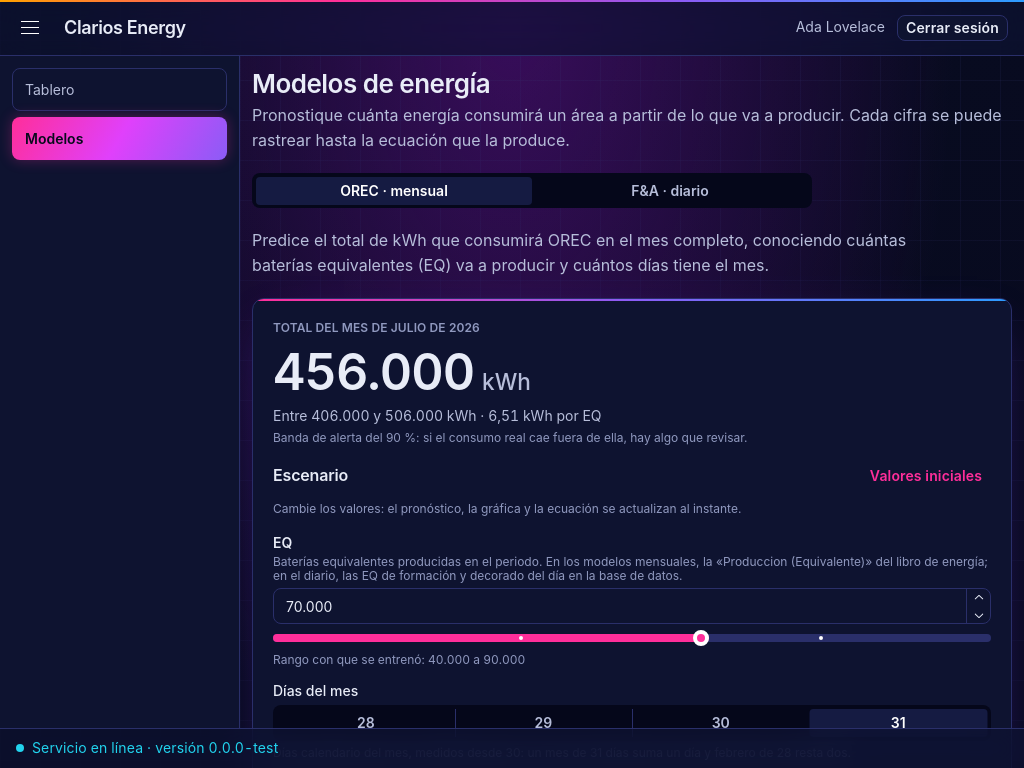
a monthly model › sends the new value when the person changes the EQ, and warns of an extrapolation
This screenshot has width=1024, height=768.
Replace the text in the field labelled "EQ" with "95000" at (632, 606), box [273,588,991,624]
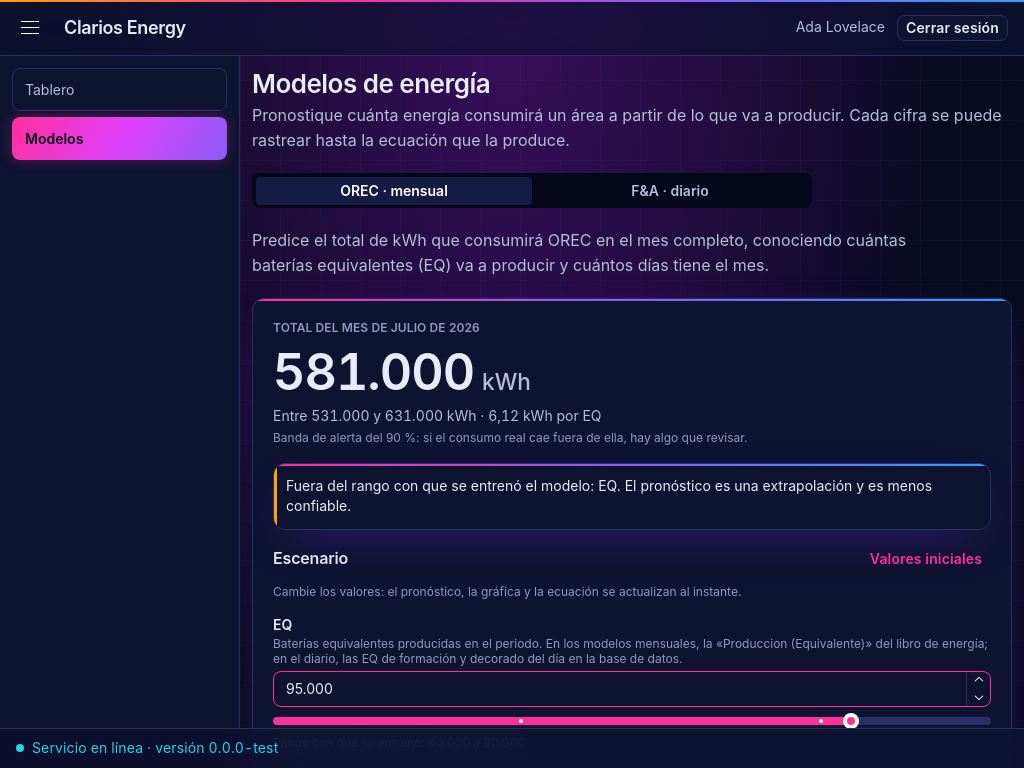
Check: the text "Fuera del rango con que se entrenó" is shown, box [286,477,932,514]
